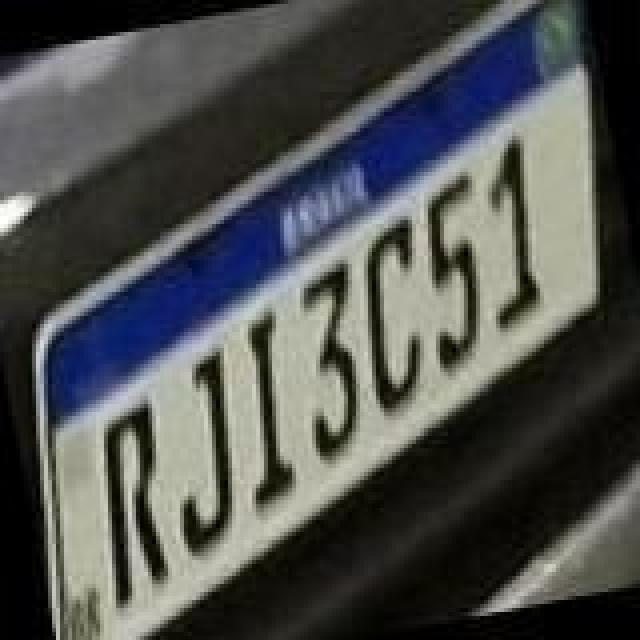1: (462, 130, 562, 334)
3: (280, 258, 392, 470)
5: (404, 170, 508, 374)
C: (336, 210, 448, 414)
I: (214, 306, 314, 510)
J: (146, 348, 262, 564)
R: (78, 398, 194, 610)
